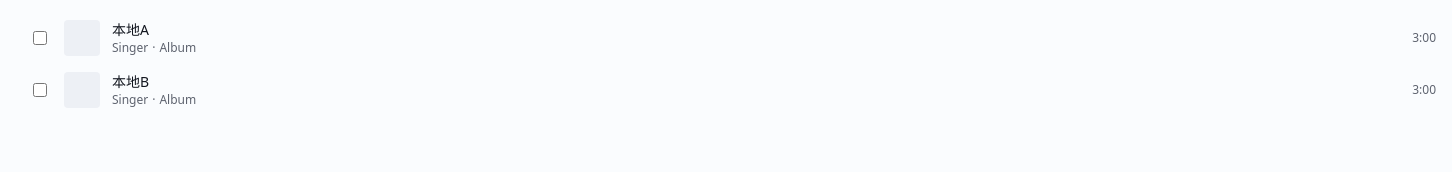
曲目多选交互 › 复选框 Shift 范围、本地 keyOf 裸路径兼容且不会触发行播放
The image size is (1452, 172).
Click the checkbox named "选择 本地A": x=40, y=38 [33,31,47,45]
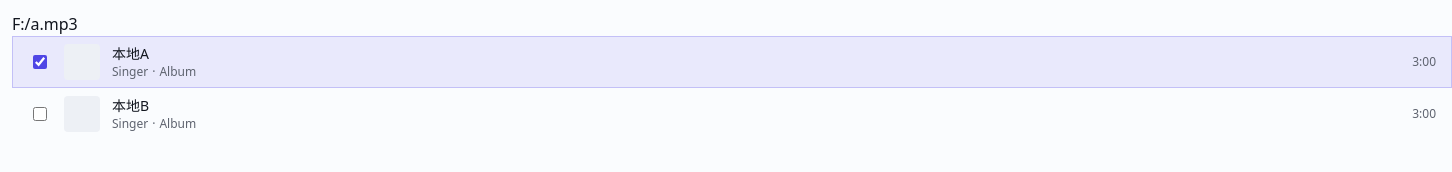
Click the checkbox named "选择 本地B": x=40, y=114 [33,107,47,121]
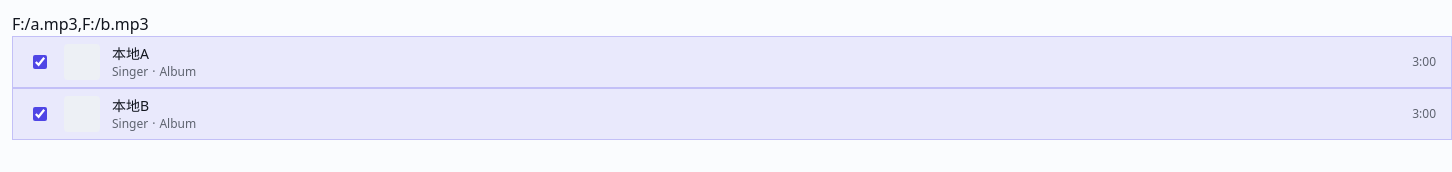
Expected: the checkbox named "选择 本地A" is checked, [33,55,47,69]
Expected: the text with test id "keys" reads "F:/a.mp3,F:/b.mp3", [12,13,149,35]
